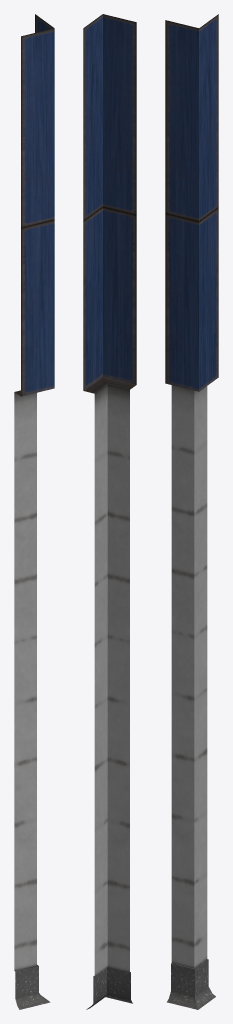
Rendered from Cafateria Corner Connection.fbx.
3 views of the same model, side by side, from view 1: azimuth 30°, elevation 25°; view 2: azimuth 150°, elevation 25°; view 3: azimuth 330°, elevation 25° (orthographic).
Parts seen in each view (by area): view 1: Cafateria_Corner_Connection; view 2: Cafateria_Corner_Connection; view 3: Cafateria_Corner_Connection.
Boxes of the visible parts, <box> form: Cafateria_Corner_Connection: <box>14,14,54,1009</box>; Cafateria_Corner_Connection: <box>83,14,136,1009</box>; Cafateria_Corner_Connection: <box>165,14,218,1009</box>.
Bounding box in the file's own units: 15 × 416 × 15.
